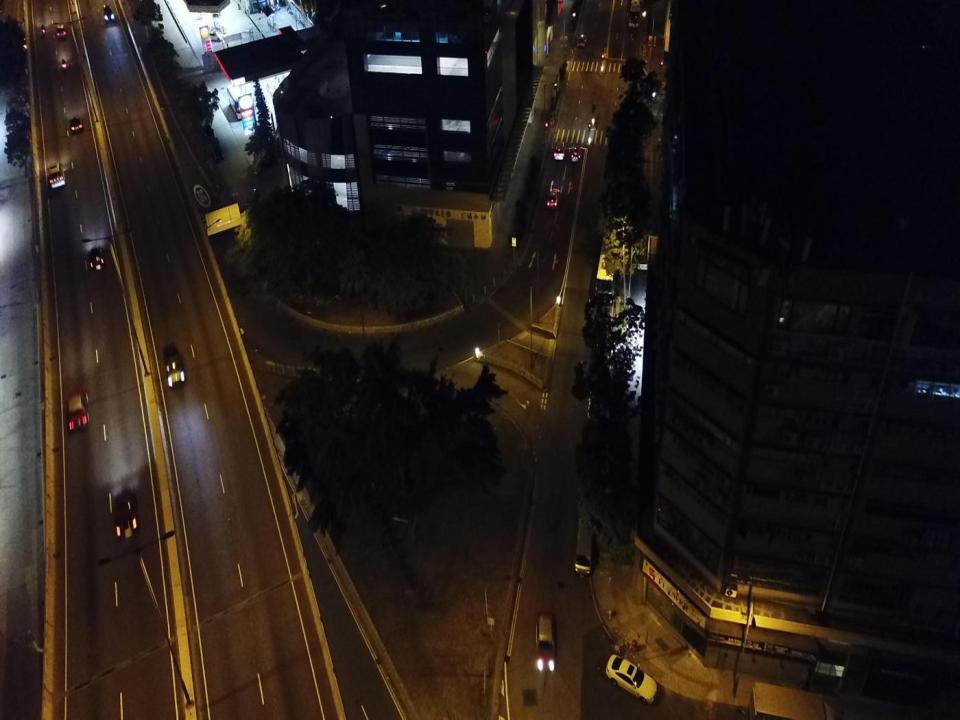bus: (596, 227, 618, 305), (227, 82, 249, 120), (627, 0, 640, 27)
car: (608, 656, 657, 705), (536, 610, 558, 671), (112, 488, 137, 539), (162, 343, 184, 389), (67, 388, 89, 433), (89, 246, 104, 271), (546, 188, 560, 209), (70, 116, 83, 133), (103, 3, 114, 22), (571, 145, 582, 162), (208, 31, 225, 41), (56, 25, 66, 40), (577, 34, 586, 47)
van: (575, 506, 593, 575), (48, 163, 64, 188), (553, 142, 566, 160)
